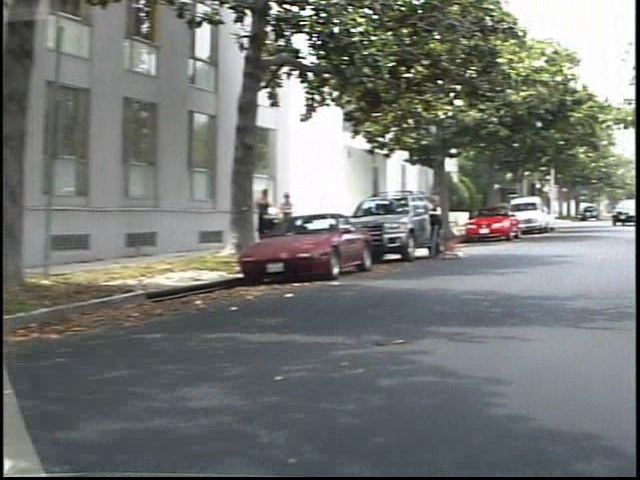person: (443, 192, 473, 266), (268, 183, 295, 252), (291, 189, 313, 248)
